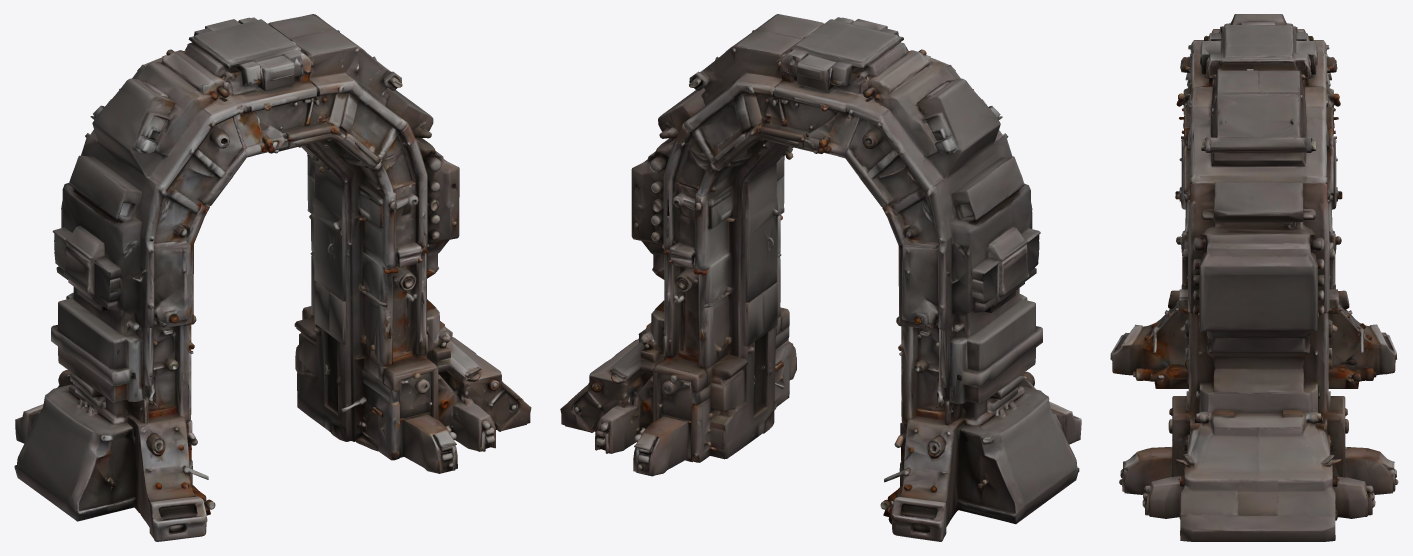
File: tripo_convert_ea000f55-5c52-4136-bf67-20898791ed5c.fbx
3 views of the same model, side by side, from view 1: azimuth 30°, elevation 25°; view 2: azimuth 150°, elevation 25°; view 3: azimuth 270°, elevation 25° (orthographic). The views are drawn at different scales.
Visible parts, largest first — view 1: tripo_node_ea000f55; view 2: tripo_node_ea000f55; view 3: tripo_node_ea000f55.
Boxes of the visible parts, x1,y1,x2,y2 form: tripo_node_ea000f55: (14, 14, 531, 541); tripo_node_ea000f55: (560, 14, 1081, 541); tripo_node_ea000f55: (1110, 14, 1398, 541).
Bounding box in the file's own units: 98.15 × 57.79 × 86.54.
1 material, 1 textured.
